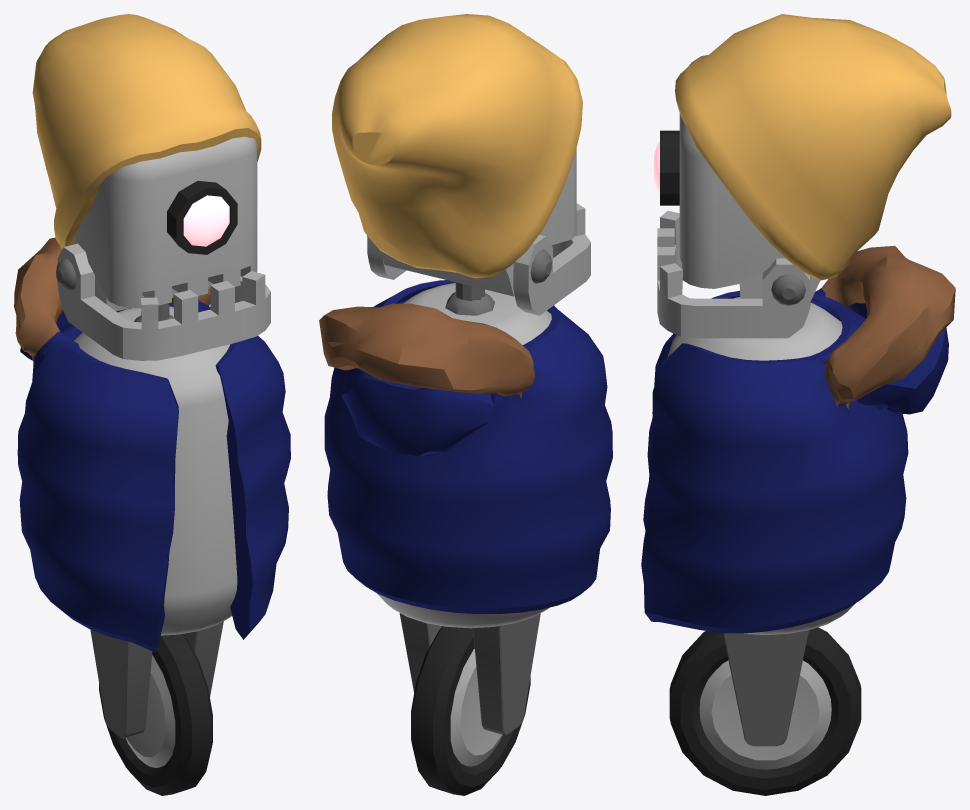
File: BlueBot.fbx
3 renders of one model, left to right at view 1: azimuth 30°, elevation 25°; view 2: azimuth 150°, elevation 25°; view 3: azimuth 270°, elevation 25°, orthographic. The views are drawn at different scales.
Parts seen in each view (by area): view 1: BlueBot; view 2: BlueBot; view 3: BlueBot.
Boxes of the visible parts, bbox=[...] form: BlueBot: bbox=[14, 14, 290, 795]; BlueBot: bbox=[319, 14, 612, 795]; BlueBot: bbox=[641, 14, 955, 795].
Bounding box in the file's own units: 248 × 734 × 274.
